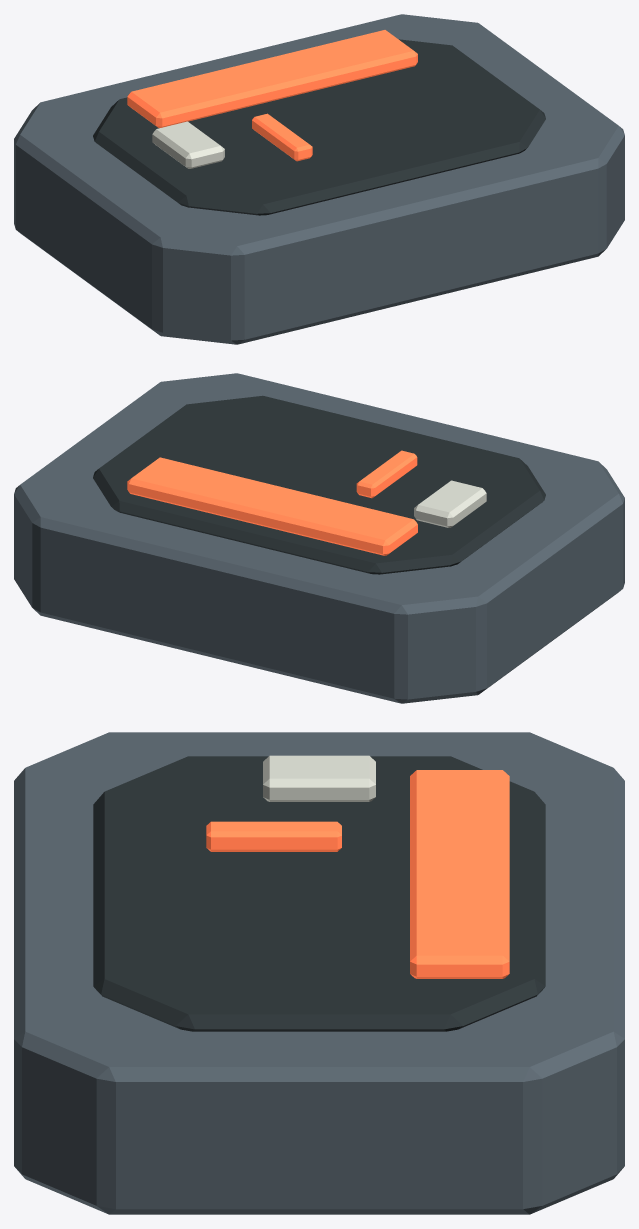
File: WorkbenchCartridge.glb
3 renders of one model, top to bottom at view 1: azimuth 30°, elevation 25°; view 2: azimuth 150°, elevation 25°; view 3: azimuth 270°, elevation 25°, orthographic. The views are drawn at different scales.
Parts seen in each view (by area): view 1: WorkbenchCartridge, Modulator 01 | inset face, Modulator 01 | type color, Modulator 01 | raised key, Modulator 01 | identity bar 0; view 2: WorkbenchCartridge, Modulator 01 | inset face, Modulator 01 | type color, Modulator 01 | raised key, Modulator 01 | identity bar 0; view 3: WorkbenchCartridge, Modulator 01 | inset face, Modulator 01 | type color, Modulator 01 | raised key, Modulator 01 | identity bar 0.
Boxes of the visible parts, x1,y1,x2,y2 form: WorkbenchCartridge: (14,14,624,344); Modulator 01 | inset face: (93,39,545,215); Modulator 01 | type color: (127,30,417,128); Modulator 01 | raised key: (152,121,224,168); Modulator 01 | identity bar 0: (252,113,312,161); WorkbenchCartridge: (14,373,624,703); Modulator 01 | inset face: (93,395,545,574); Modulator 01 | type color: (127,457,417,555); Modulator 01 | raised key: (414,480,486,527); Modulator 01 | identity bar 0: (356,450,417,498); WorkbenchCartridge: (14,732,624,1214); Modulator 01 | inset face: (93,756,545,1031); Modulator 01 | type color: (410,770,509,978); Modulator 01 | raised key: (263,755,375,801); Modulator 01 | identity bar 0: (206,821,341,851).
Size of the model in its own units: 0.018 by 0.0045 by 0.0135.
